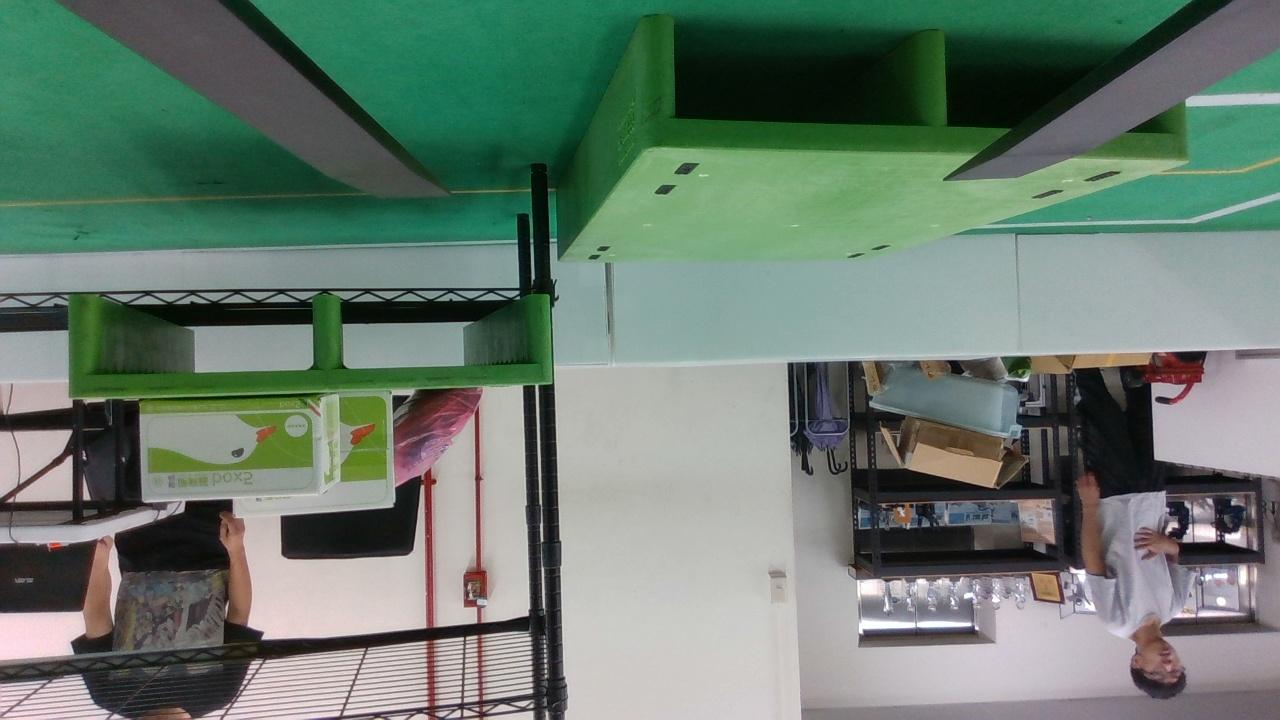Pallet: (637, 15, 1191, 166), (67, 290, 553, 399)
